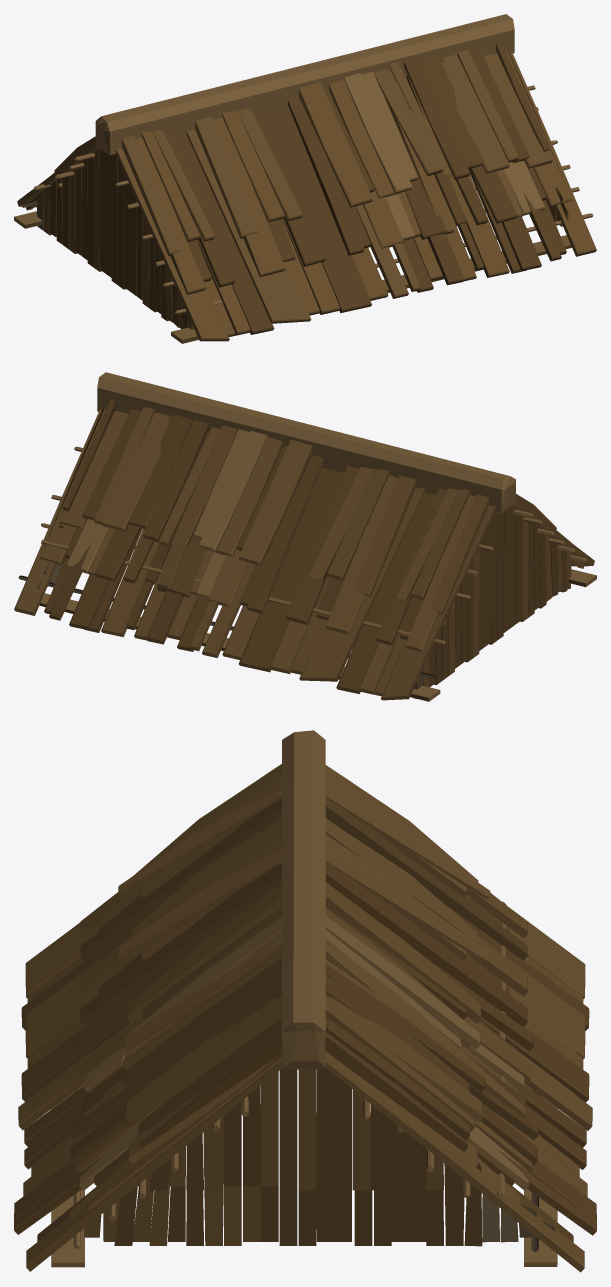
File: EA03_Town_Ill_Roof_01b.glb
3 views of the same model, one above another, from view 1: azimuth 30°, elevation 25°; view 2: azimuth 150°, elevation 25°; view 3: azimuth 270°, elevation 25° (orthographic). The views are drawn at different scales.
Visible parts, largest first — view 1: EA03_Town_Ill_Roof_01b; view 2: EA03_Town_Ill_Roof_01b; view 3: EA03_Town_Ill_Roof_01b.
Boxes of the visible parts, x1,y1,x2,y2 form: EA03_Town_Ill_Roof_01b: [14, 14, 596, 343]; EA03_Town_Ill_Roof_01b: [14, 372, 596, 701]; EA03_Town_Ill_Roof_01b: [14, 730, 596, 1272].
Bounding box in the file's own units: 12.43 × 4.88 × 9.89.
Materials: 1 (1 with a texture image).
